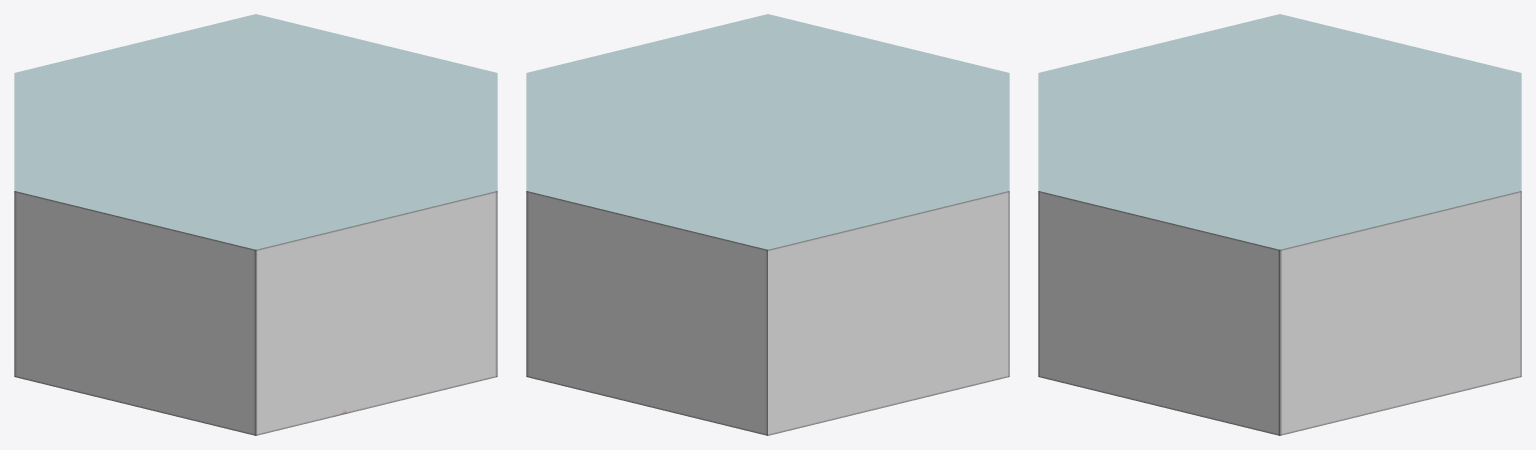
Rendered from Building_Link.fbx.
The picture shows the model from 3 angles, left to right: view 1: azimuth 30°, elevation 25°; view 2: azimuth 150°, elevation 25°; view 3: azimuth 270°, elevation 25°; orthographic projection.
Parts seen in each view (by area): view 1: Building_Link; view 2: Building_Link; view 3: Building_Link.
Part boxes in pixels (box(x1,y1,x2,y2)): Building_Link: box(14, 14, 497, 435); Building_Link: box(526, 14, 1009, 435); Building_Link: box(1038, 14, 1521, 435).
Bounding box in the file's own units: 15.97 × 5.88 × 13.83.
